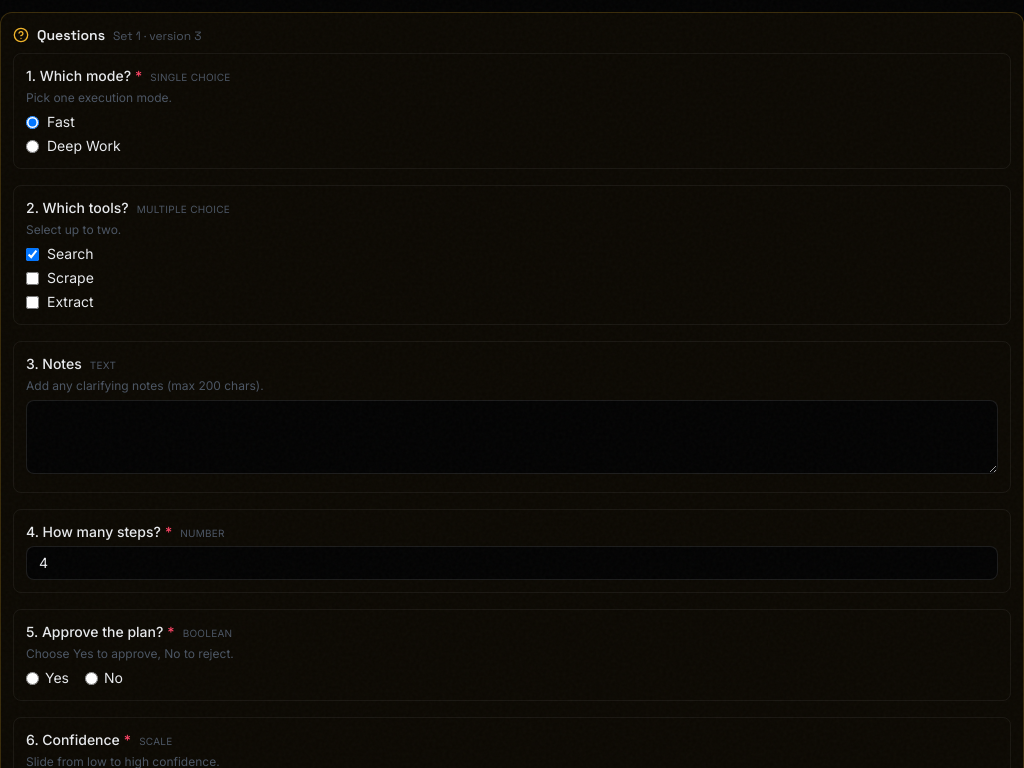
MissionQuestionCard — typed question cards › editing a value marks it as a local draft without submitting (VAL-MODEQ-068)
This screenshot has width=1024, height=768.
# Edit the number field away from the default (4 → 7).
Replace the text in the number field named "How many steps?" with "7" at (512, 563), box [26,546,998,580]
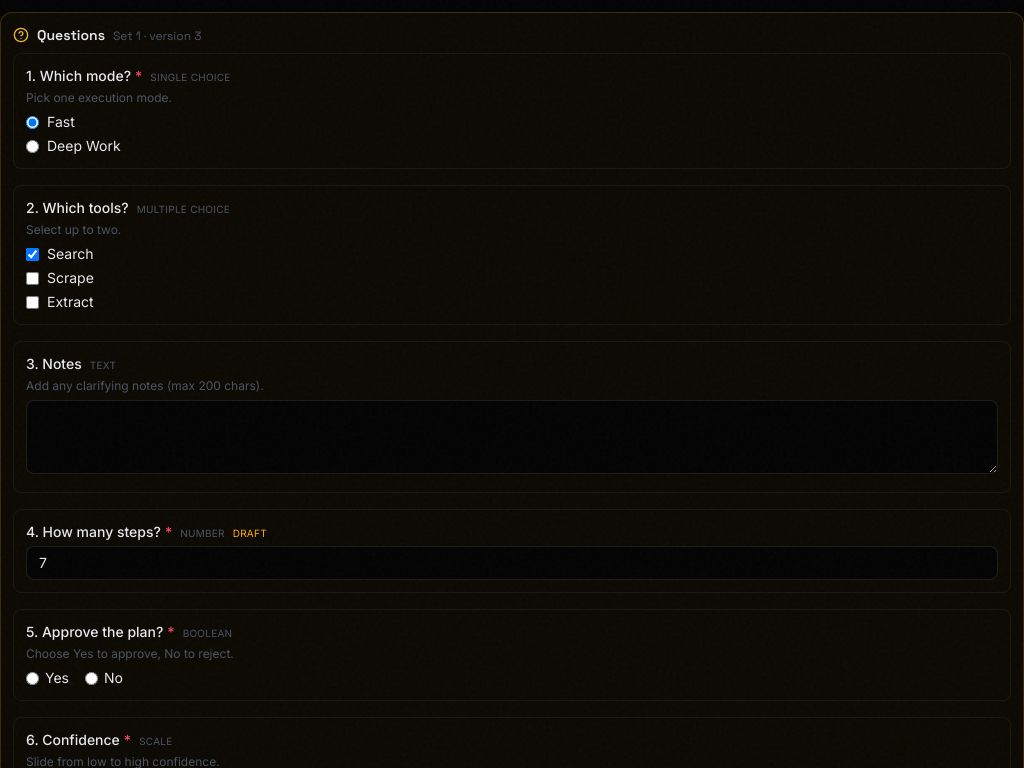
Now the text "Draft" is shown, box [233,526,267,541]
